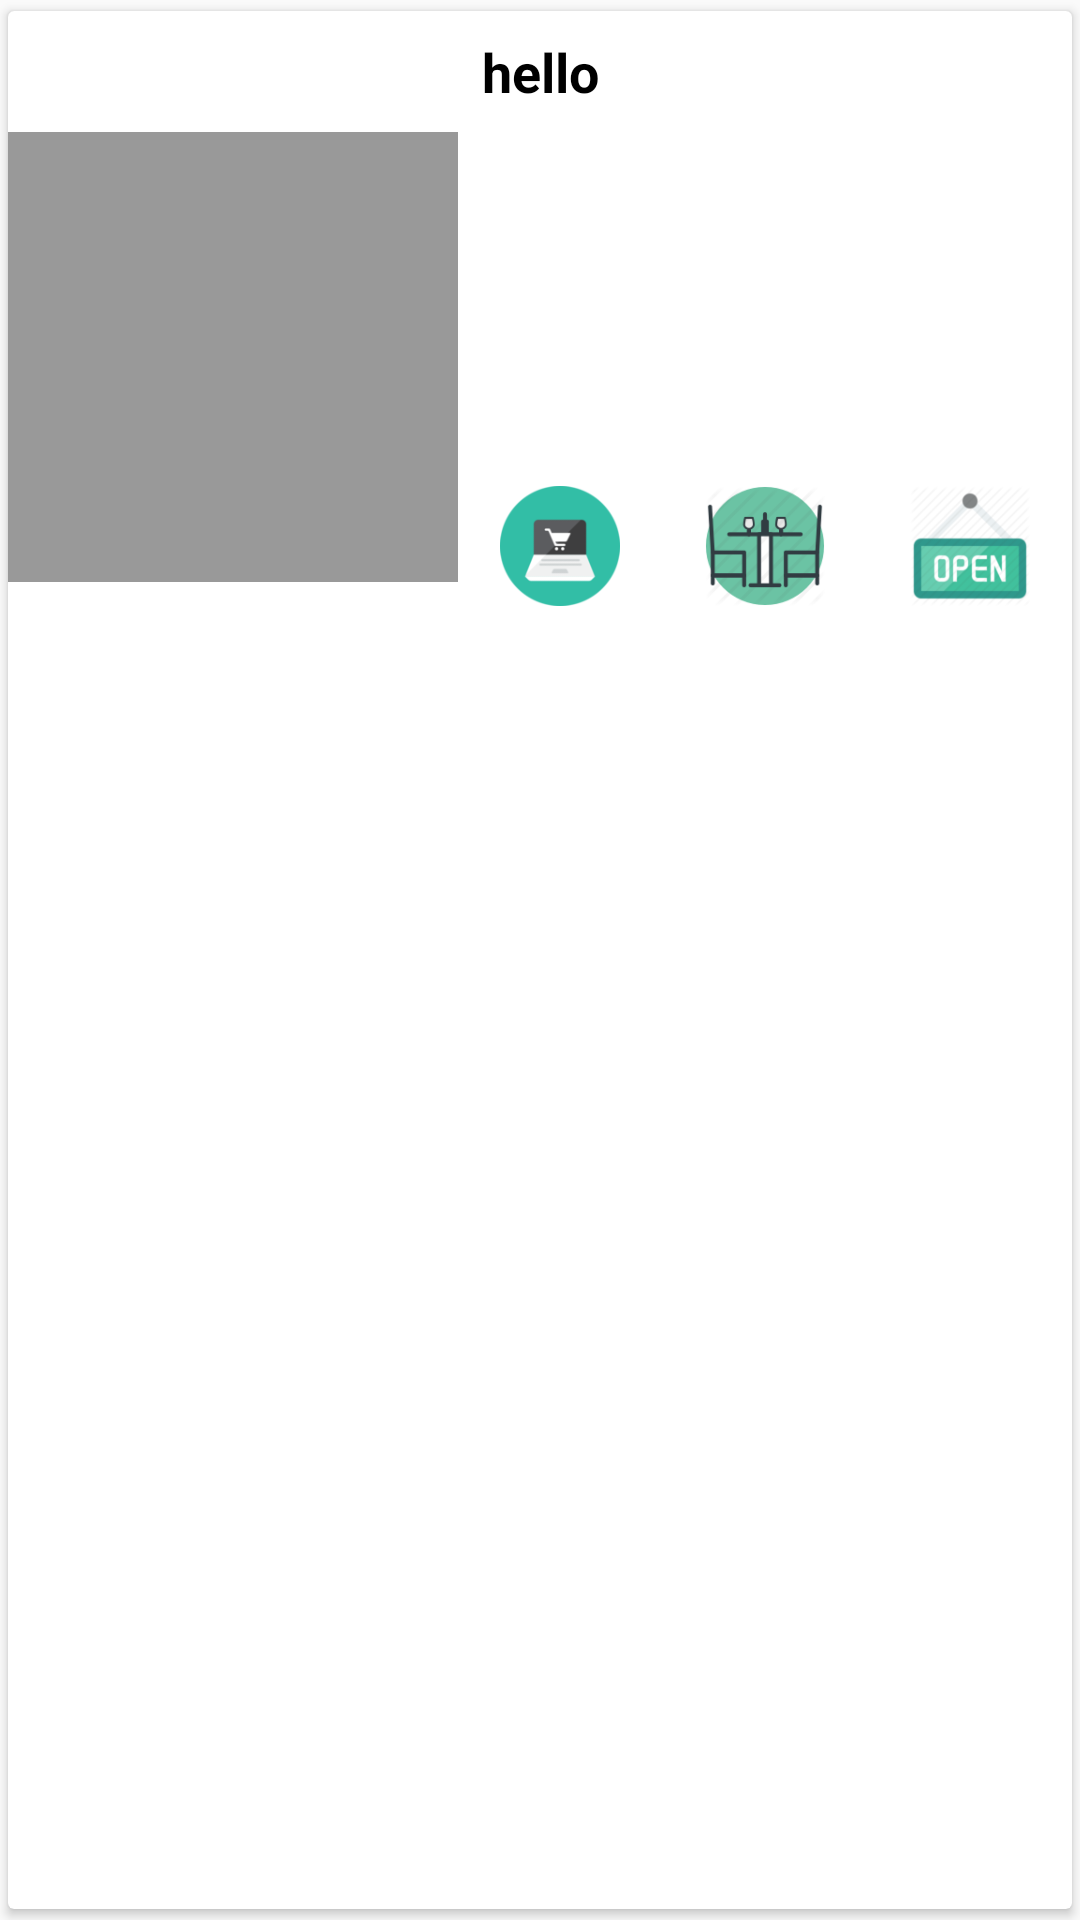

Point at icon controls on the screen. Image size 1080*1920, points as (x,y).
online order: (560,546)
online table: (765,546)
